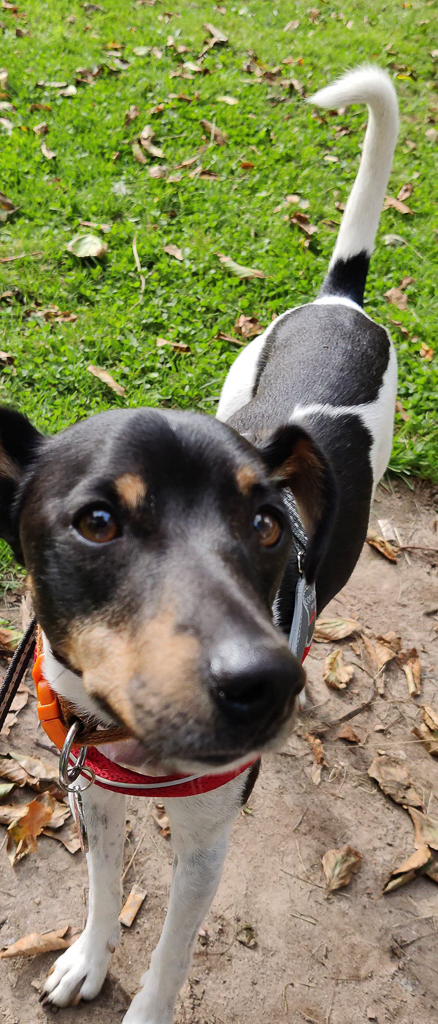Dog: (0, 58, 412, 1024)
